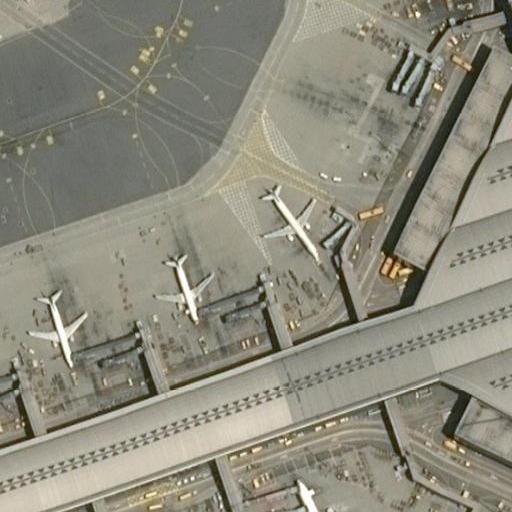Aircraft: (251, 175, 333, 266), (21, 284, 96, 366), (255, 179, 326, 264), (144, 245, 220, 322), (265, 462, 377, 512), (26, 286, 89, 368), (152, 248, 215, 322), (271, 474, 377, 512), (13, 0, 82, 3), (4, 0, 87, 2)
